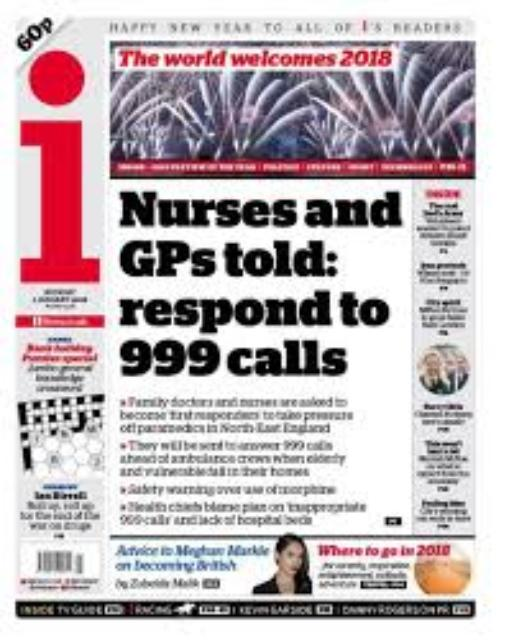cardboard paper: (9, 13, 488, 624)
